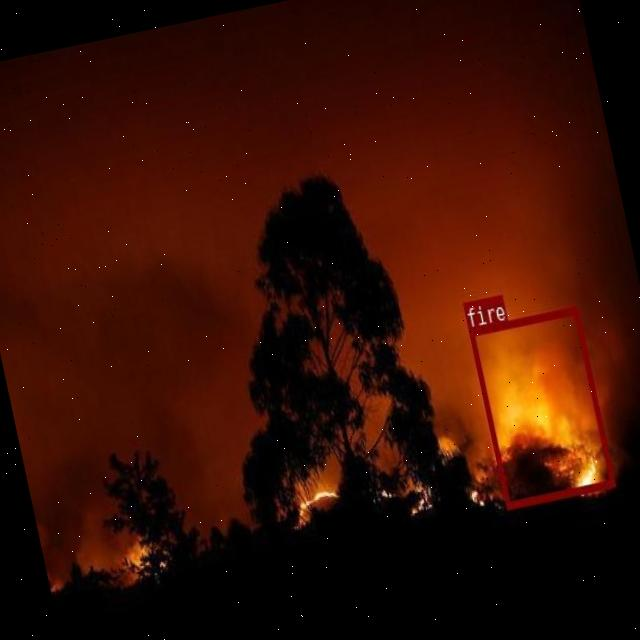fire: (468, 306, 614, 508)
